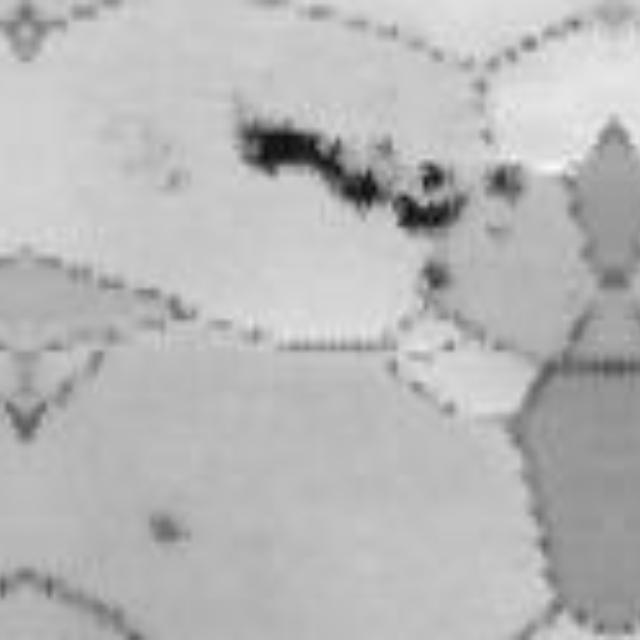good_void: (242, 124, 376, 206), (397, 196, 453, 227), (149, 516, 185, 547), (490, 165, 515, 206), (422, 263, 448, 289), (422, 165, 438, 191), (376, 139, 386, 160)
